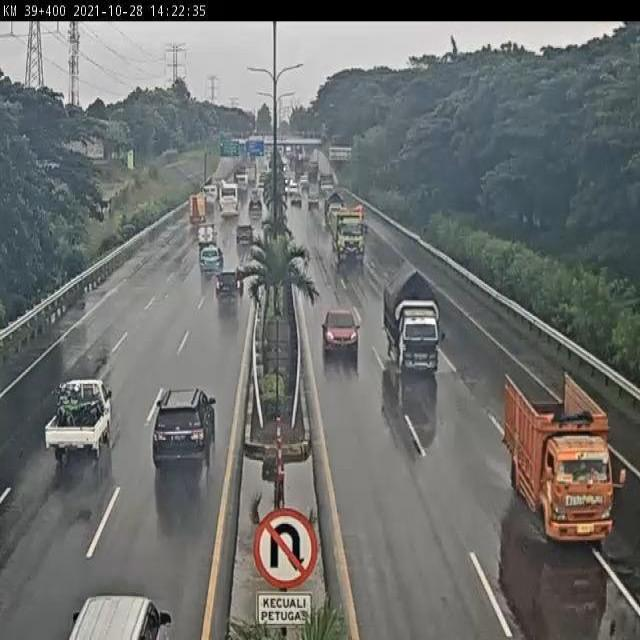car: (45, 380, 112, 465), (151, 387, 215, 464), (320, 308, 362, 361)
truck-l-: (331, 205, 370, 268)
truck-s-: (501, 368, 616, 548), (382, 259, 441, 380)
